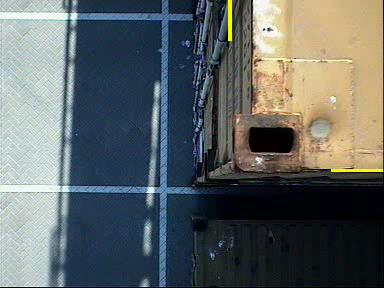groundmarker_2: (111, 219, 145, 278), (84, 90, 144, 119)
